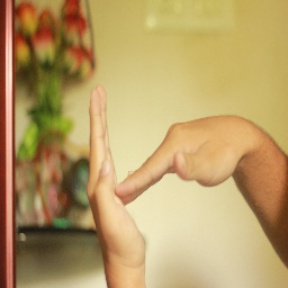Z: (79, 80, 251, 273)
